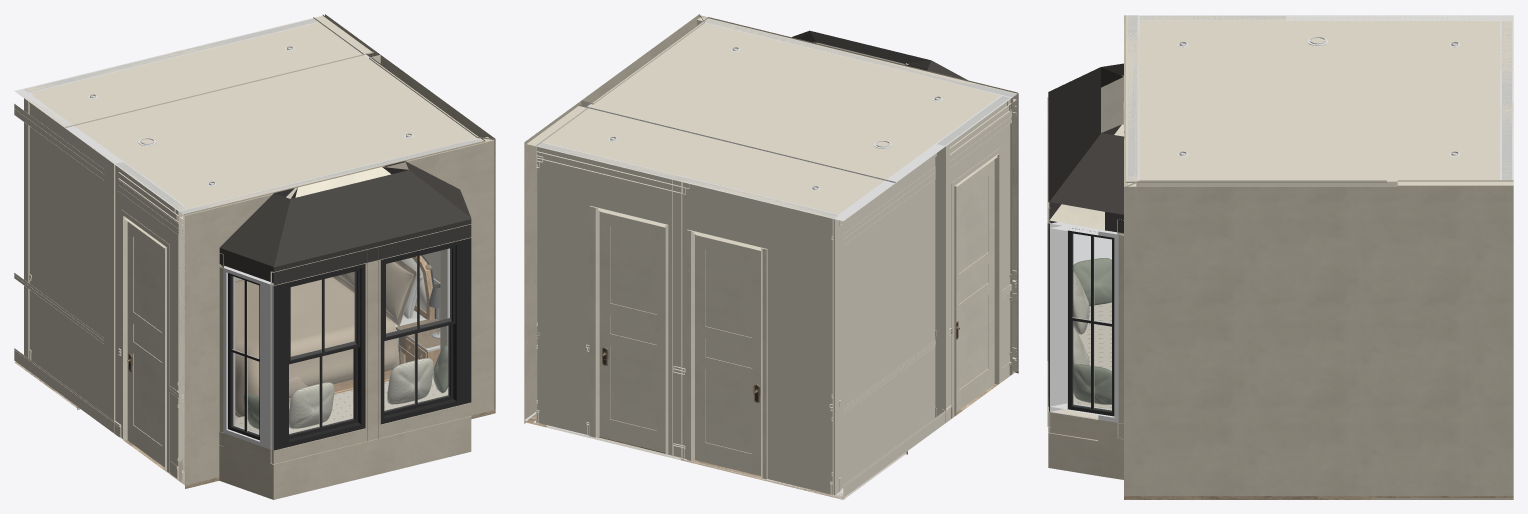
The model's file is loli-bedroom-46171150a5f2.glb.
The picture shows the model from 3 angles, left to right: view 1: azimuth 30°, elevation 25°; view 2: azimuth 150°, elevation 25°; view 3: azimuth 270°, elevation 25°; orthographic projection. The views are drawn at different scales.
Visible parts, largest first — view 1: loli-bedroom-dbd60ee5c3733ed6, loli-bedroom-93447d0fea18c81b, loli-bedroom-6a1144f4e43410bb, loli-bedroom-fd1c2425c72e98e4, loli-bedroom-4cda501b4aaed82b, loli-bedroom-daa4f3edc919433a, loli-bedroom-2575515a05775d9e, loli-bedroom-7cd33252cebb505d, loli-bedroom-527014f532f46c8e, loli-bedroom-cf6d22c5317ced0b, loli-bedroom-75b75731e5e739a5, loli-bedroom-1c854c81caf855fc (+23 smaller); view 2: loli-bedroom-0e637d2be41161fb, loli-bedroom-dbd60ee5c3733ed6, loli-bedroom-6a1144f4e43410bb, loli-bedroom-eceff908bd344cec, loli-bedroom-5b37b110dc0e2cdc, loli-bedroom-2575515a05775d9e, loli-bedroom-68d06b361ac47823, loli-bedroom-cf6d22c5317ced0b, loli-bedroom-319244b3406409d9, loli-bedroom-93447d0fea18c81b, loli-bedroom-d6b1bc8c737b28e2, loli-bedroom-8cbce1d8f2f8a576 (+16 smaller); view 3: loli-bedroom-592bd9af2ed71797, loli-bedroom-dbd60ee5c3733ed6, loli-bedroom-319244b3406409d9, loli-bedroom-2575515a05775d9e, loli-bedroom-53e6a9e479527da3, loli-bedroom-daa4f3edc919433a, loli-bedroom-131a246e00605616, loli-bedroom-d8b729a36612415b, loli-bedroom-4fba7e1fe7b1aa39, loli-bedroom-93447d0fea18c81b, loli-bedroom-0e637d2be41161fb, loli-bedroom-e0a3201bd49c7536 (+12 smaller).
Boxes of the visible parts, x1=… form: loli-bedroom-dbd60ee5c3733ed6: x1=75, y1=53, x2=485, y2=215; loli-bedroom-93447d0fea18c81b: x1=178, y1=138, x2=493, y2=485; loli-bedroom-6a1144f4e43410bb: x1=14, y1=88, x2=123, y2=433; loli-bedroom-fd1c2425c72e98e4: x1=274, y1=264, x2=365, y2=450; loli-bedroom-4cda501b4aaed82b: x1=381, y1=238, x2=471, y2=424; loli-bedroom-daa4f3edc919433a: x1=273, y1=167, x2=471, y2=285; loli-bedroom-2575515a05775d9e: x1=18, y1=15, x2=373, y2=127; loli-bedroom-7cd33252cebb505d: x1=235, y1=277, x2=399, y2=416; loli-bedroom-527014f532f46c8e: x1=223, y1=266, x2=273, y2=450; loli-bedroom-cf6d22c5317ced0b: x1=127, y1=222, x2=164, y2=467; loli-bedroom-75b75731e5e739a5: x1=272, y1=259, x2=470, y2=469; loli-bedroom-1c854c81caf855fc: x1=273, y1=421, x2=471, y2=499; loli-bedroom-0e637d2be41161fb: x1=536, y1=142, x2=839, y2=495; loli-bedroom-dbd60ee5c3733ed6: x1=586, y1=17, x2=1017, y2=182; loli-bedroom-6a1144f4e43410bb: x1=833, y1=144, x2=945, y2=497; loli-bedroom-eceff908bd344cec: x1=599, y1=211, x2=665, y2=452; loli-bedroom-5b37b110dc0e2cdc: x1=695, y1=234, x2=760, y2=475; loli-bedroom-2575515a05775d9e: x1=526, y1=105, x2=889, y2=220; loli-bedroom-68d06b361ac47823: x1=935, y1=95, x2=1011, y2=422; loli-bedroom-cf6d22c5317ced0b: x1=956, y1=159, x2=994, y2=411; loli-bedroom-319244b3406409d9: x1=524, y1=100, x2=592, y2=422; loli-bedroom-93447d0fea18c81b: x1=701, y1=15, x2=1018, y2=374; loli-bedroom-d6b1bc8c737b28e2: x1=687, y1=229, x2=767, y2=479; loli-bedroom-8cbce1d8f2f8a576: x1=954, y1=154, x2=999, y2=416; loli-bedroom-592bd9af2ed71797: x1=1124, y1=180, x2=1386, y2=495; loli-bedroom-dbd60ee5c3733ed6: x1=1126, y1=15, x2=1397, y2=182; loli-bedroom-319244b3406409d9: x1=1387, y1=180, x2=1513, y2=495; loli-bedroom-2575515a05775d9e: x1=1397, y1=15, x2=1513, y2=186; loli-bedroom-53e6a9e479527da3: x1=1050, y1=222, x2=1118, y2=422; loli-bedroom-daa4f3edc919433a: x1=1048, y1=67, x2=1123, y2=222; loli-bedroom-131a246e00605616: x1=1049, y1=124, x2=1124, y2=233; loli-bedroom-d8b729a36612415b: x1=1048, y1=235, x2=1123, y2=444; loli-bedroom-4fba7e1fe7b1aa39: x1=1048, y1=433, x2=1123, y2=479; loli-bedroom-93447d0fea18c81b: x1=1124, y1=15, x2=1139, y2=186; loli-bedroom-0e637d2be41161fb: x1=1500, y1=20, x2=1513, y2=180; loli-bedroom-e0a3201bd49c7536: x1=1073, y1=302, x2=1111, y2=409.
Size of the model in its own units: 3.62 by 3.05 by 4.12.
Materials: 46 (14 with a texture image).
